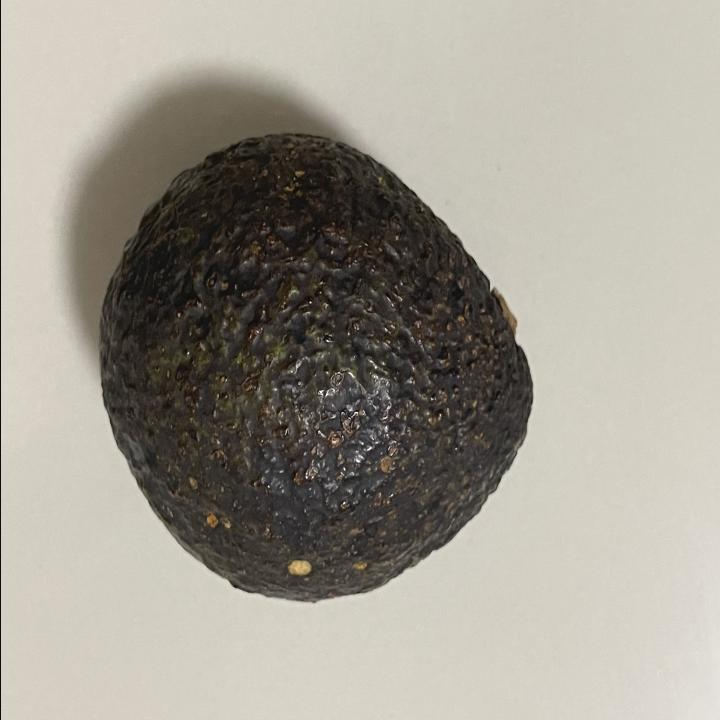Level2: (93, 124, 543, 612)
